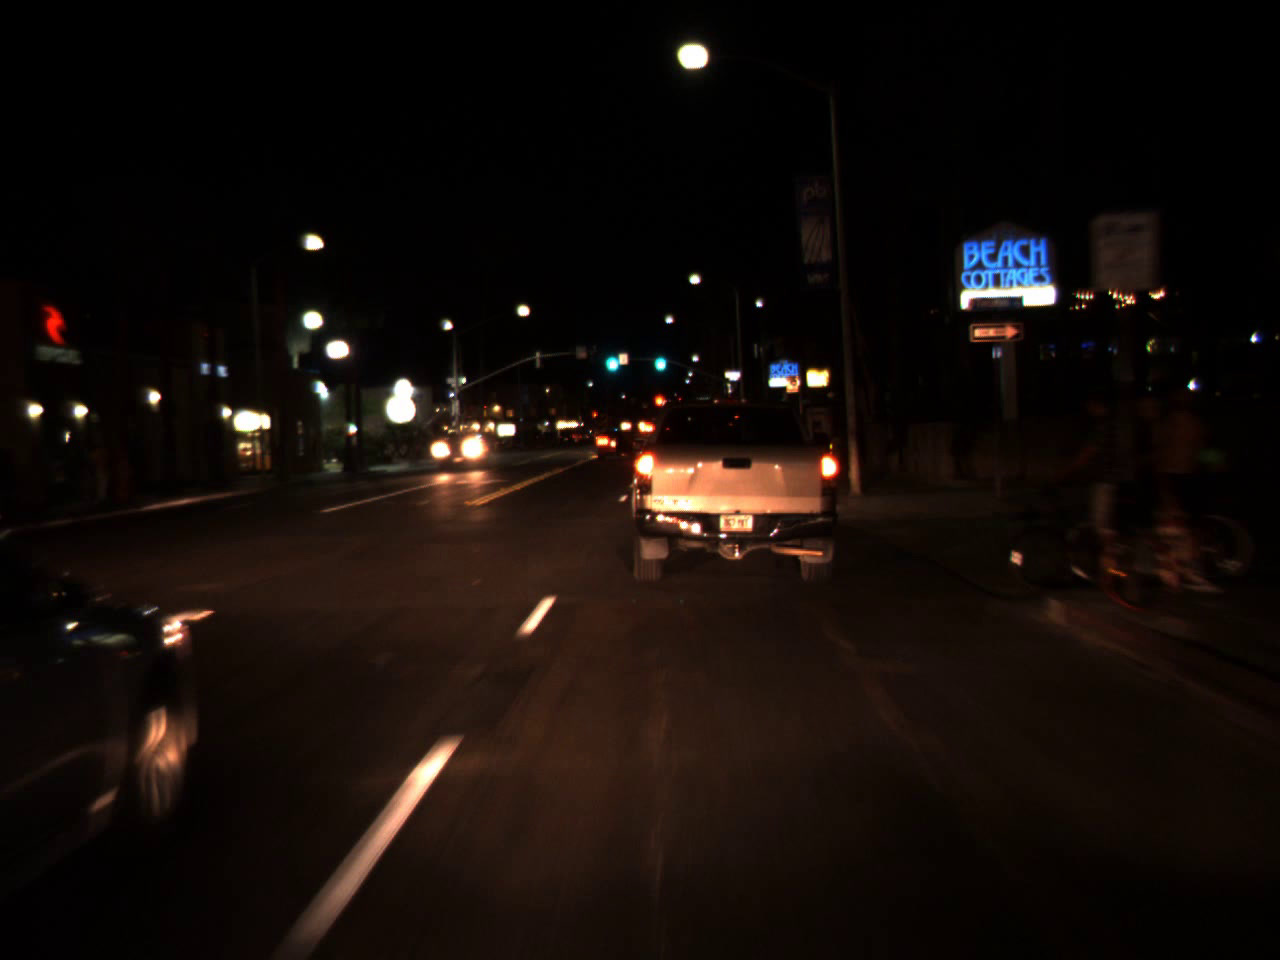go: (601, 340, 622, 376), (651, 342, 667, 375)
